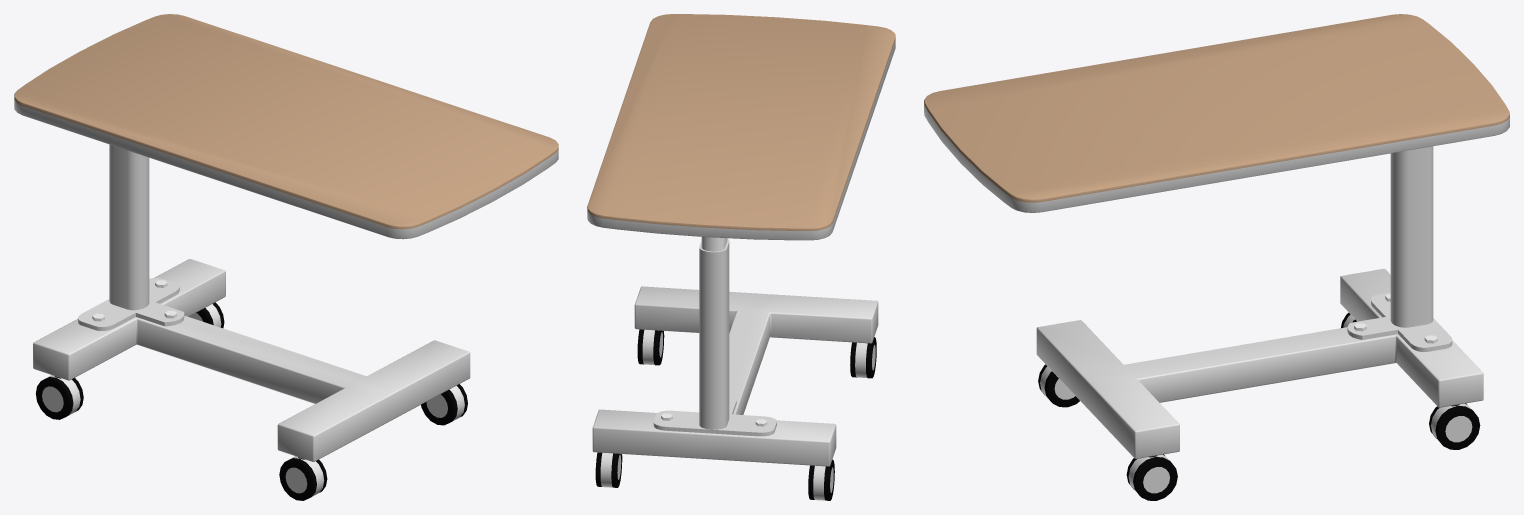
Rendered from title_shot_patient_table.fbx.
3 renders of one model, left to right at view 1: azimuth 30°, elevation 25°; view 2: azimuth 150°, elevation 25°; view 3: azimuth 270°, elevation 25°, orthographic. The views are drawn at different scales.
Visible parts, largest first — view 1: patient_table|Cube.009|Dupli|, patient_table|Cube.018|Dupli|2, patient_table|Cylinder.010|Dupli|1, patient_table|small_table_wheel|Dupli|3, patient_table|small_table_wheel.002|Dupli|5, patient_table|small_table_wheel.003|Dupli|6; view 2: patient_table|Cube.009|Dupli|, patient_table|Cube.018|Dupli|2, patient_table|Cylinder.010|Dupli|1, patient_table|small_table_wheel.002|Dupli|5, patient_table|small_table_wheel|Dupli|3, patient_table|small_table_wheel.003|Dupli|6, patient_table|small_table_wheel.001|Dupli|4; view 3: patient_table|Cube.009|Dupli|, patient_table|Cube.018|Dupli|2, patient_table|Cylinder.010|Dupli|1, patient_table|small_table_wheel.001|Dupli|4, patient_table|small_table_wheel.003|Dupli|6, patient_table|small_table_wheel.002|Dupli|5.
Boxes of the visible parts, <box> form: patient_table|Cube.009|Dupli|: <box>14,14,558,239</box>; patient_table|Cube.018|Dupli|2: <box>33,259,470,461</box>; patient_table|Cylinder.010|Dupli|1: <box>78,144,184,330</box>; patient_table|small_table_wheel|Dupli|3: <box>35,375,83,419</box>; patient_table|small_table_wheel.002|Dupli|5: <box>279,456,327,500</box>; patient_table|small_table_wheel.003|Dupli|6: <box>421,384,467,425</box>; patient_table|Cube.009|Dupli|: <box>587,14,895,240</box>; patient_table|Cube.018|Dupli|2: <box>592,286,878,466</box>; patient_table|Cylinder.010|Dupli|1: <box>653,237,776,436</box>; patient_table|small_table_wheel.002|Dupli|5: <box>850,337,876,378</box>; patient_table|small_table_wheel|Dupli|3: <box>808,459,834,500</box>; patient_table|small_table_wheel.003|Dupli|6: <box>637,329,664,365</box>; patient_table|small_table_wheel.001|Dupli|4: <box>595,452,622,487</box>; patient_table|Cube.009|Dupli|: <box>924,14,1509,212</box>; patient_table|Cube.018|Dupli|2: <box>1036,269,1483,458</box>; patient_table|Cylinder.010|Dupli|1: <box>1347,146,1452,351</box>; patient_table|small_table_wheel.001|Dupli|4: <box>1429,403,1480,449</box>; patient_table|small_table_wheel.003|Dupli|6: <box>1126,454,1177,500</box>; patient_table|small_table_wheel.002|Dupli|5: <box>1038,364,1079,407</box>.
Bounding box in the file's own units: 57.12 × 46.55 × 75.99.
